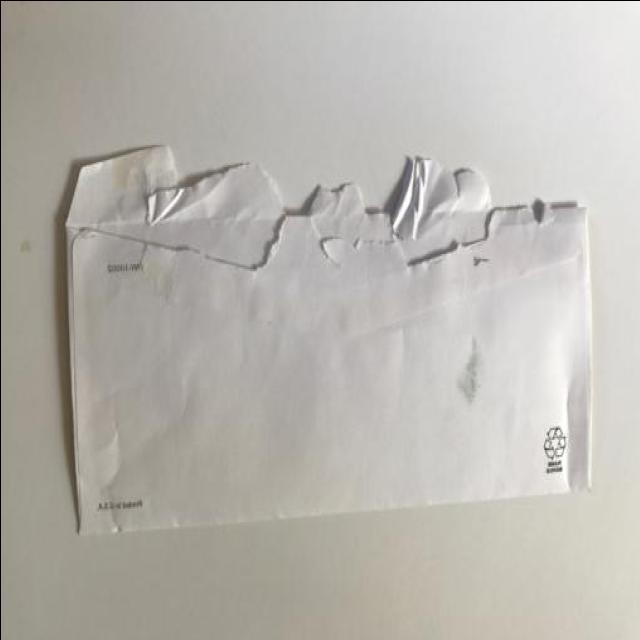kertas: (61, 143, 595, 536)
